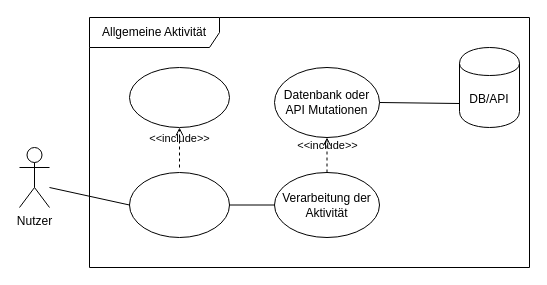
Some shapes in this 547 by 285 pixel diagram are drawn without their labels. Here are the shapes that lost their labels. From the top down, the box of each, then its label:
(128, 66, 230, 128): Anmelden
(128, 172, 230, 238): Follow/Like/Undo/Dislike/Create
